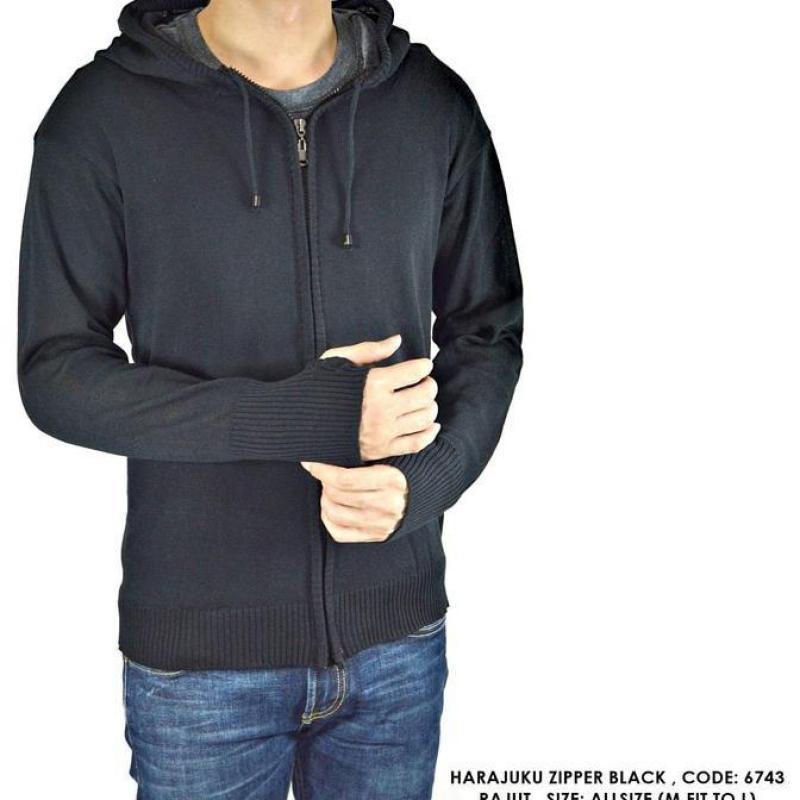sweater: (14, 0, 527, 677)
trousers: (117, 617, 448, 800)
